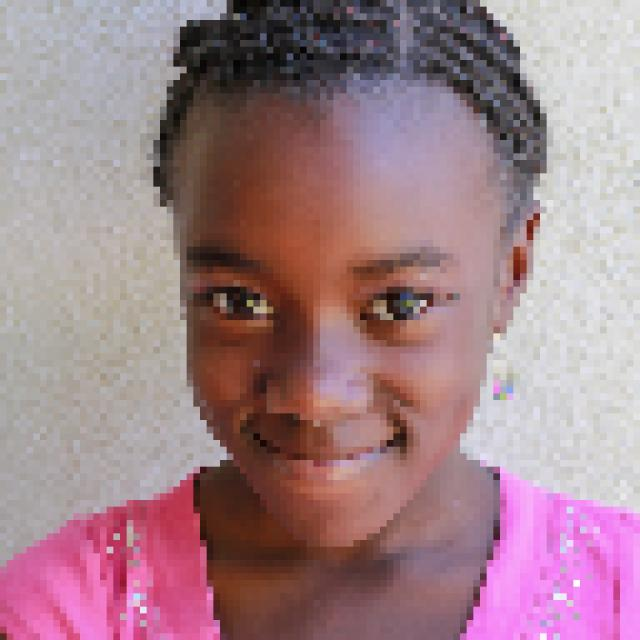happy: (165, 68, 508, 576)
